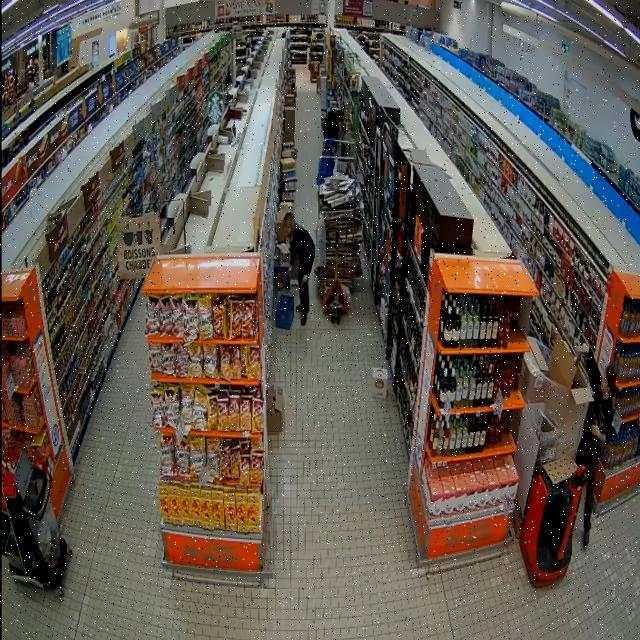article: (599, 405, 605, 434), (573, 351, 583, 366), (592, 403, 598, 425)
hands: (578, 343, 590, 354), (591, 423, 600, 437), (288, 266, 293, 277), (303, 275, 308, 284)
person: (576, 345, 615, 546), (284, 212, 314, 325)
